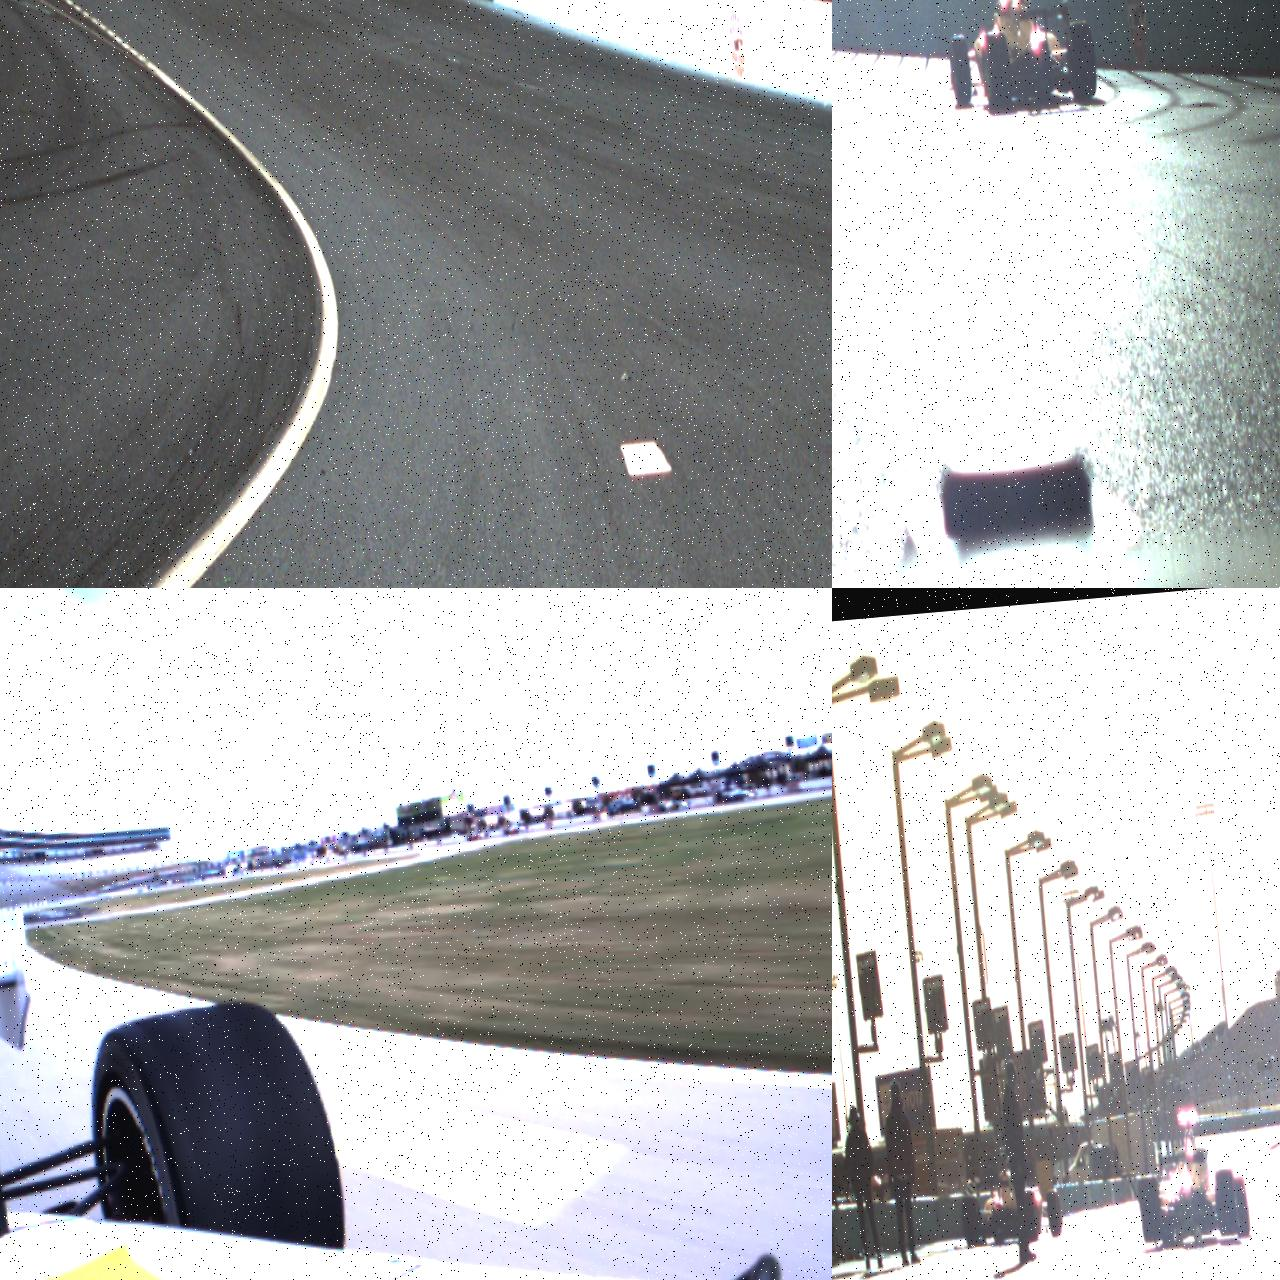AV: (937, 0, 1100, 115), (1132, 1104, 1252, 1248), (955, 1140, 1064, 1249)
Wheel: (82, 994, 346, 1275), (1064, 19, 1100, 102), (980, 32, 1013, 112), (948, 35, 974, 107), (1138, 1174, 1164, 1244), (1213, 1168, 1240, 1234), (960, 1196, 984, 1250), (1232, 1176, 1252, 1238), (1022, 1188, 1040, 1240), (1046, 1190, 1064, 1236)
